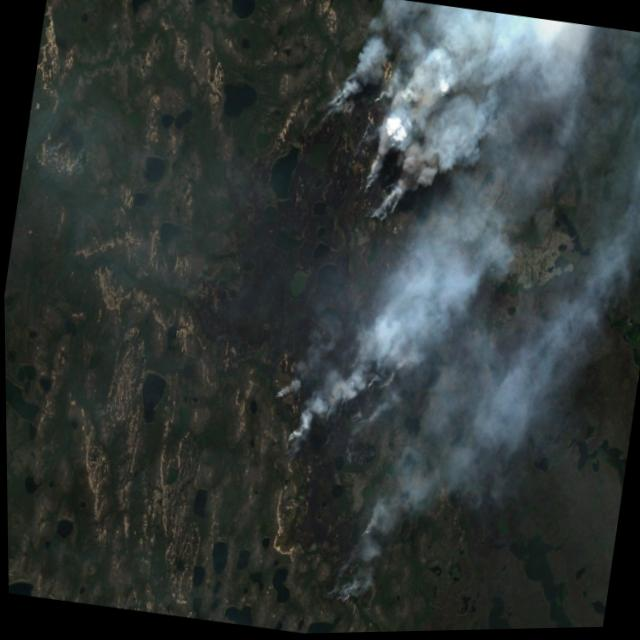fire: (238, 361, 407, 622), (296, 41, 433, 239)
